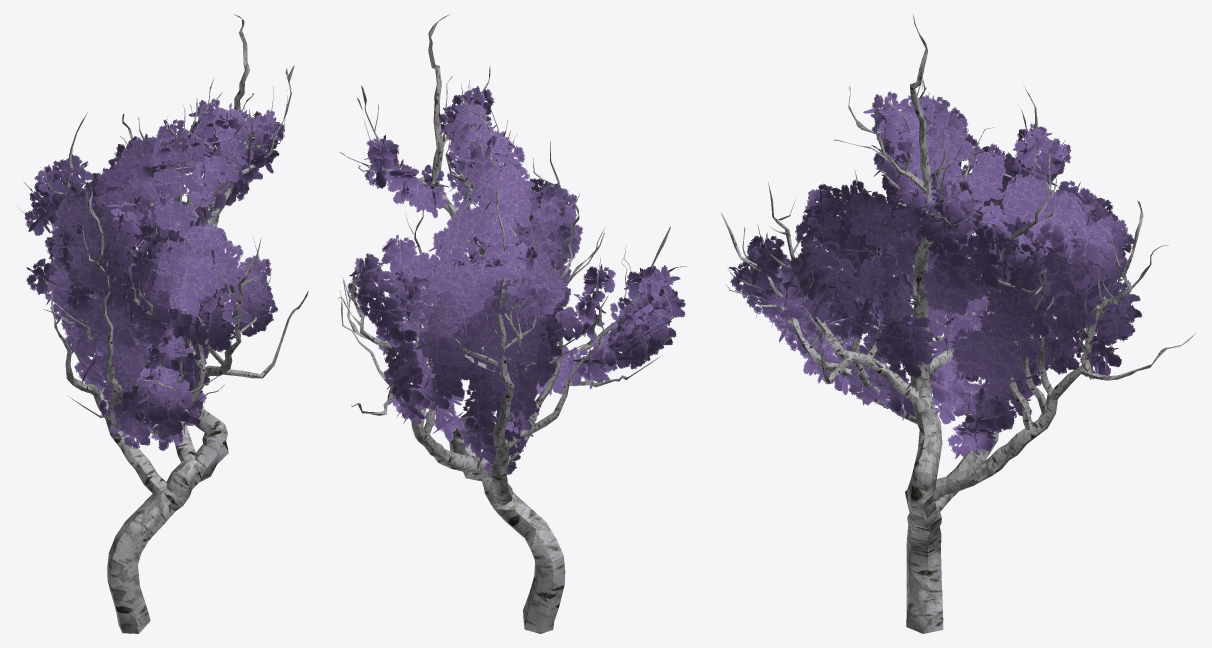
The model's file is tree_w_material_1.fbx.
The picture shows the model from 3 angles, left to right: view 1: azimuth 30°, elevation 25°; view 2: azimuth 150°, elevation 25°; view 3: azimuth 270°, elevation 25°; orthographic projection. The views are drawn at different scales.
Visible parts, largest first — view 1: geo1; view 2: geo1; view 3: geo1.
Boxes of the visible parts, left/top/right/bottom form: geo1: left=17, top=14, right=308, bottom=633; geo1: left=338, top=14, right=687, bottom=633; geo1: left=721, top=14, right=1195, bottom=633.
Size of the model in its own units: 435 by 901 by 583.
